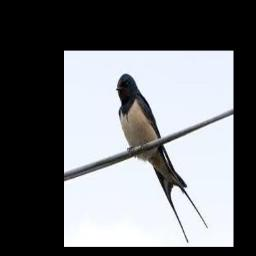Swallow: (116, 74, 208, 242)
